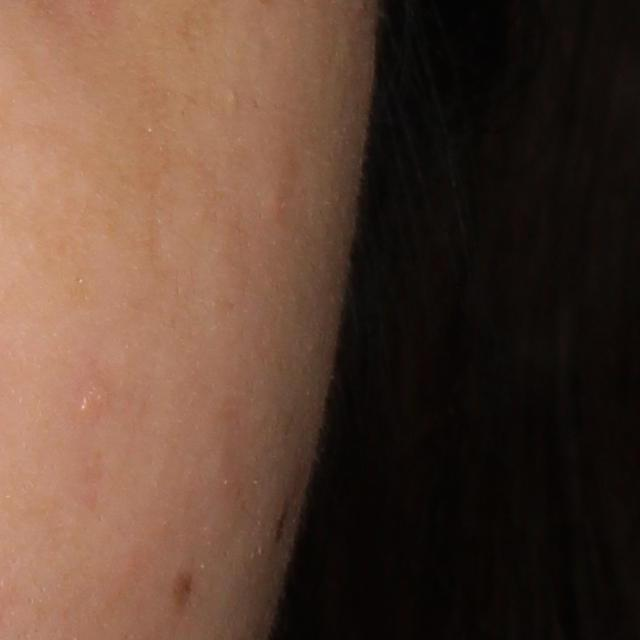nevus: (174, 570, 191, 612)
